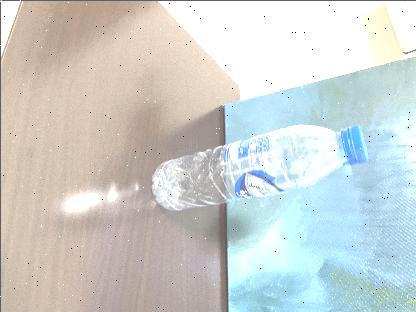Plastic Bottle: (150, 124, 368, 210)
